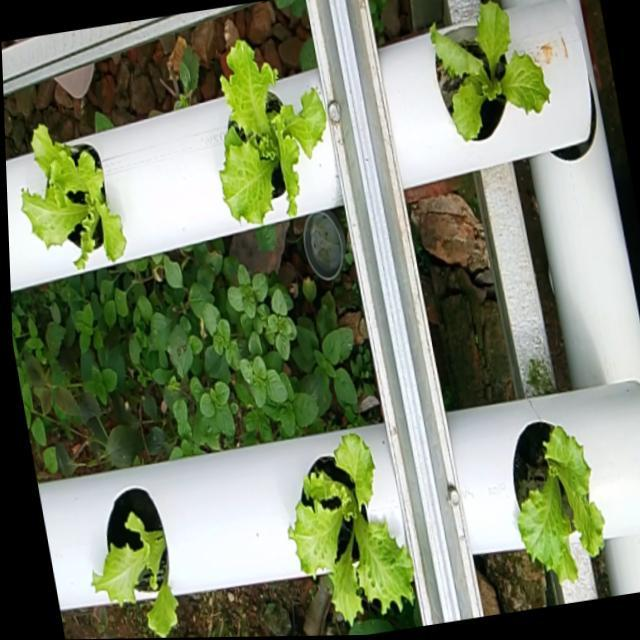Baby: (289, 437, 415, 630), (221, 44, 328, 228), (431, 6, 551, 147), (24, 126, 128, 271), (513, 426, 604, 587), (93, 487, 178, 637)
